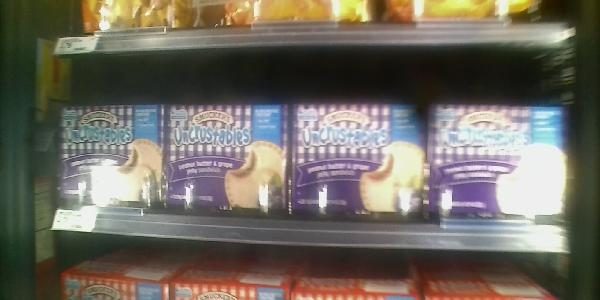icecream: (427, 92, 571, 225), (291, 97, 422, 226), (167, 102, 291, 217), (58, 101, 166, 220)
